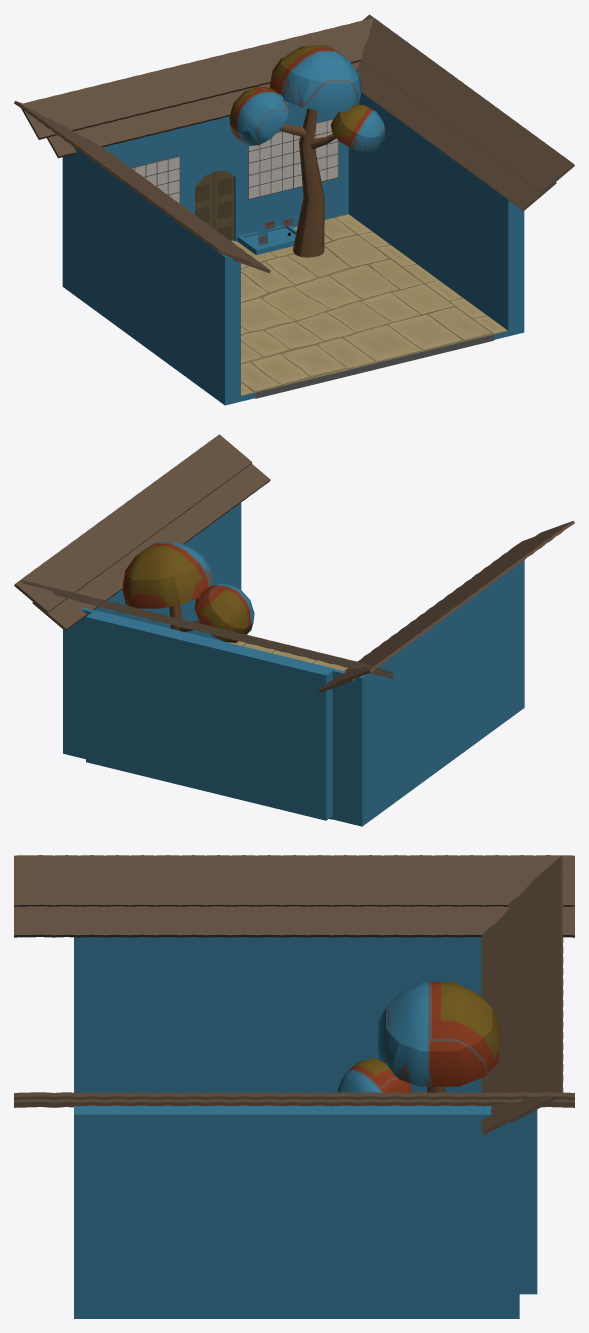
File: Dojo.fbx
3 views of the same model, one above another, from view 1: azimuth 30°, elevation 25°; view 2: azimuth 150°, elevation 25°; view 3: azimuth 270°, elevation 25° (orthographic). The views are drawn at different scales.
Parts seen in each view (by area): view 1: left_Wall, Floor, right_Wall, Back_Wall, Roof_back_Top, Roof_right_top, Roof_right_buttom, pCube3, Roof_back_buttom, Tree1, Roof_right_top3, pCube4 (+3 smaller); view 2: Back_Wall, left_Wall, Roof_right_top, right_Wall, Roof_right_buttom, pCube3, Roof_right_top3, pCube4, Roof_back_Top, Roof_back_buttom, Roof_right_buttom3, Floor; view 3: right_Wall, left_Wall, Roof_right_top3, Roof_right_buttom3, Roof_back_Top, pCube3, Roof_right_top, Roof_back_buttom, Roof_right_buttom, Back_Wall, pCube1.
Boxes of the visible parts, x1,y1,x2,y2 form: left_Wall: (62,147,255,405); Floor: (231,218,493,398); right_Wall: (334,92,524,339); Back_Wall: (103,102,335,241); Roof_back_Top: (21,18,373,139); Roof_right_top: (360,14,574,193); Roof_right_buttom: (356,61,556,211); pCube3: (270,45,361,111); Roof_back_buttom: (47,61,359,158); Tree1: (234,107,336,257); Roof_right_top3: (14,101,252,264); pCube4: (229,86,288,145); Back_Wall: (86,610,334,820); left_Wall: (331,560,524,826); Roof_right_top: (14,434,252,613); right_Wall: (63,502,255,759); Roof_right_buttom: (32,464,270,630); pCube3: (122,542,213,608); Roof_right_top3: (336,521,574,684); pCube4: (194,583,254,642); Roof_back_Top: (20,580,393,674); Roof_back_buttom: (52,591,393,678); Roof_right_buttom3: (318,537,533,692); Floor: (243,637,356,819); right_Wall: (74,1105,519,1318); left_Wall: (74,937,481,1092); Roof_right_top3: (14,855,574,906); Roof_right_buttom3: (14,906,574,937); Roof_back_Top: (508,855,563,1122); pCube3: (378,982,499,1086); Roof_right_top: (14,1092,574,1099); Roof_back_buttom: (481,909,509,1134); Roof_right_buttom: (14,1099,574,1107); Back_Wall: (519,1110,537,1294); pCube1: (337,1058,412,1092).
Bounding box in the file's own units: 22.54 × 12.41 × 22.34.
